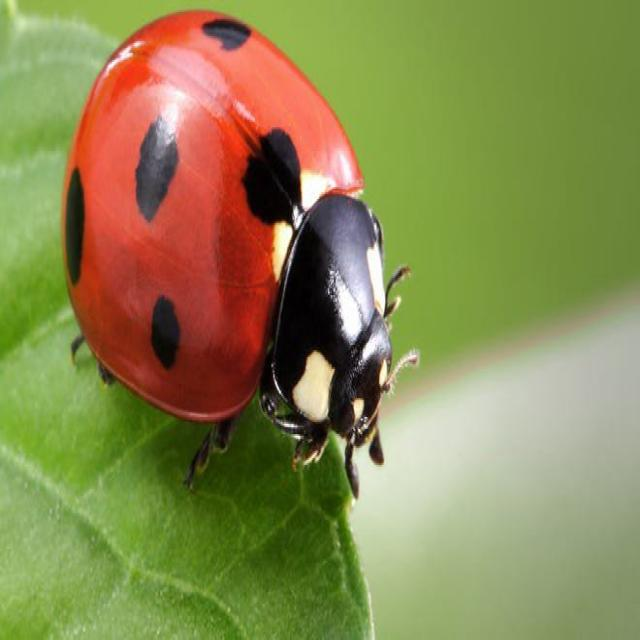ladybug: (62, 10, 396, 496)
